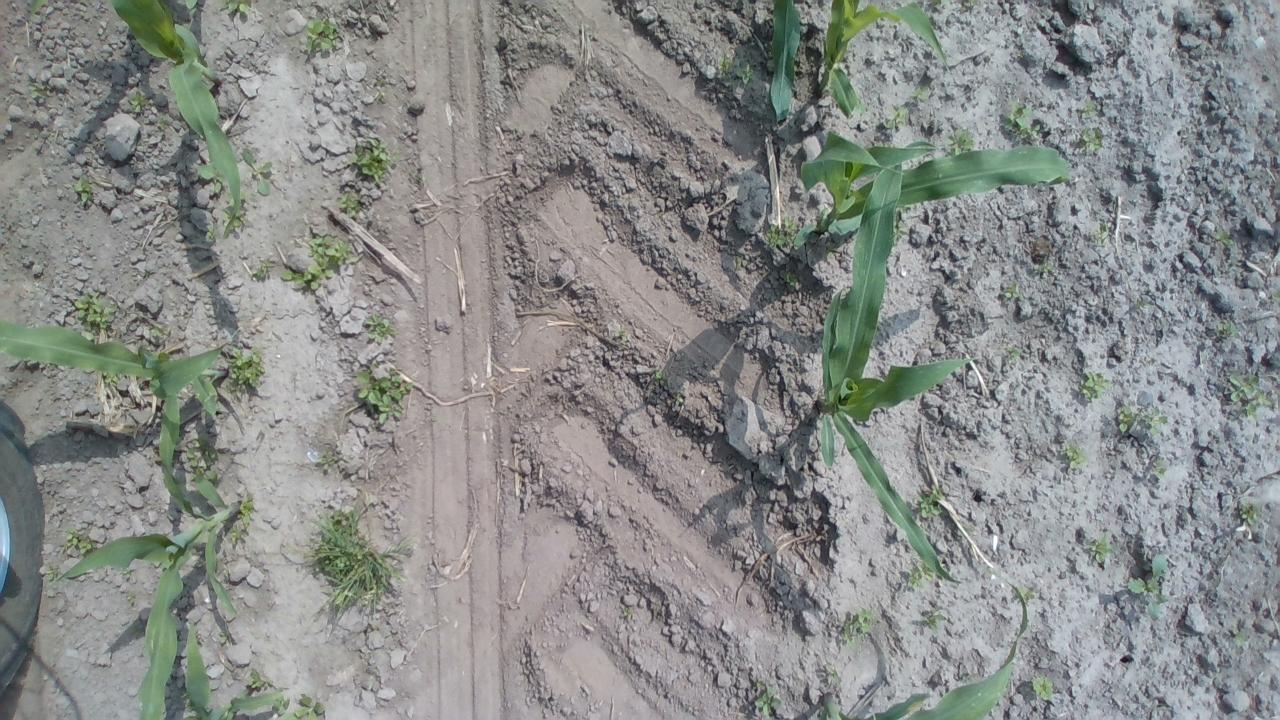Maize: (806, 148, 977, 598), (54, 453, 270, 720), (10, 312, 273, 502), (780, 118, 1077, 254), (104, 0, 272, 212), (792, 598, 1035, 720), (768, 1, 962, 121), (180, 614, 286, 720)
Weeds: (292, 504, 418, 616), (277, 231, 363, 289), (336, 137, 394, 219), (355, 366, 415, 426), (1127, 550, 1170, 626), (1220, 368, 1278, 418), (1002, 93, 1050, 150), (218, 341, 270, 393), (70, 288, 121, 333), (1114, 402, 1166, 446), (241, 145, 281, 201), (226, 490, 263, 546), (902, 551, 952, 592), (180, 438, 222, 485), (270, 691, 338, 720), (302, 16, 350, 57), (1078, 100, 1112, 156), (357, 308, 404, 346), (839, 609, 877, 649), (760, 216, 808, 247), (1074, 366, 1110, 406), (745, 682, 786, 716), (212, 201, 248, 239), (59, 524, 98, 559), (717, 56, 757, 90), (1062, 435, 1094, 477), (192, 155, 228, 191), (944, 122, 980, 156), (72, 169, 100, 210), (995, 276, 1030, 308), (240, 664, 277, 694), (918, 602, 952, 634), (1030, 670, 1060, 706), (877, 102, 910, 134), (242, 252, 272, 286), (778, 260, 808, 294), (918, 486, 944, 525), (310, 444, 342, 474), (125, 87, 152, 120), (1082, 218, 1116, 244), (1239, 496, 1263, 531), (220, 0, 258, 21), (1090, 538, 1116, 567), (1218, 318, 1246, 344), (1211, 224, 1239, 250), (909, 77, 937, 102), (1228, 627, 1256, 650), (610, 325, 636, 348), (729, 252, 750, 278), (27, 0, 55, 17), (1131, 295, 1153, 316), (1036, 259, 1060, 278), (618, 602, 634, 624), (1006, 345, 1024, 364), (28, 81, 45, 100), (650, 370, 668, 387), (669, 394, 686, 410), (826, 666, 842, 682)
